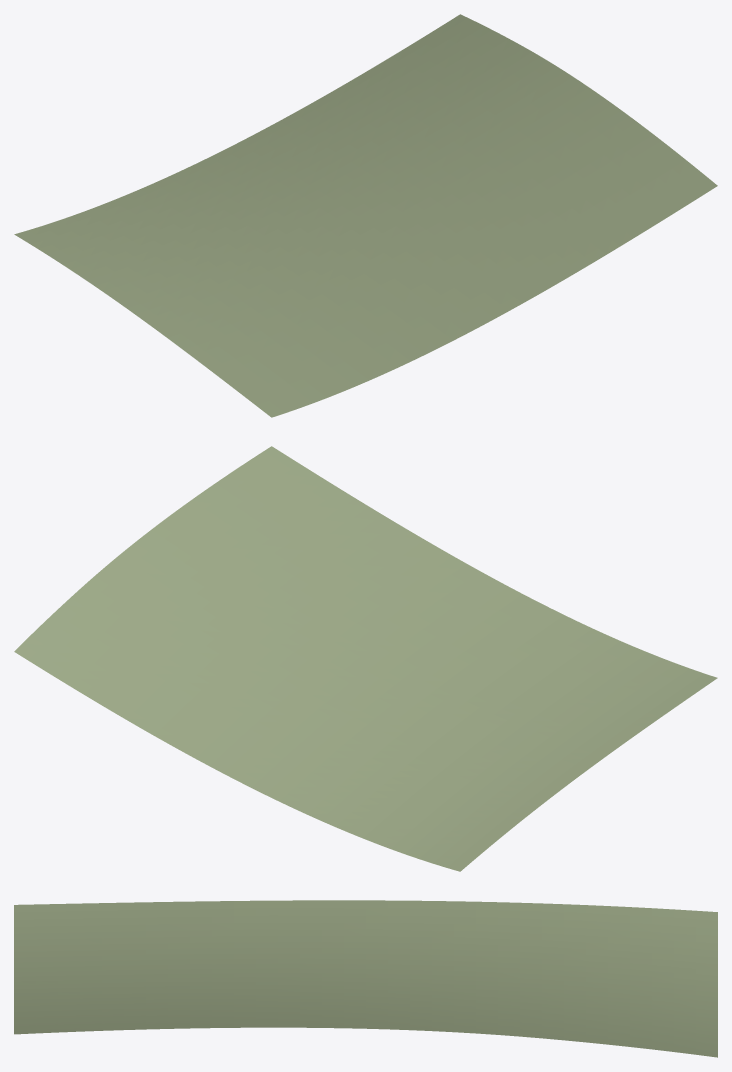
File: expanse-24-17.glb
3 views of the same model, one above another, from view 1: azimuth 30°, elevation 25°; view 2: azimuth 150°, elevation 25°; view 3: azimuth 270°, elevation 25° (orthographic). The views are drawn at different scales.
Visible parts, largest first — view 1: expanse-24-17; view 2: expanse-24-17; view 3: expanse-24-17.
Boxes of the visible parts, x1,y1,x2,y2 form: expanse-24-17: (14, 14, 717, 417); expanse-24-17: (14, 446, 717, 871); expanse-24-17: (14, 900, 717, 1057).
Size of the model in its own units: 256 by 73.02 by 256.
